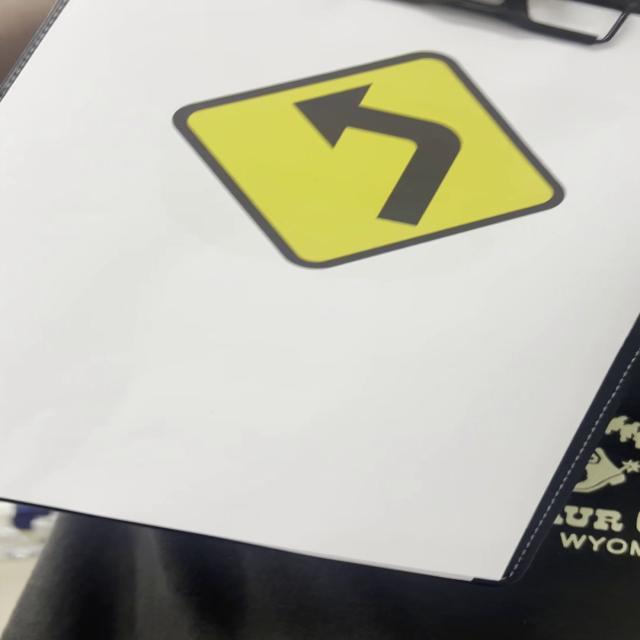left: (170, 49, 565, 270)
